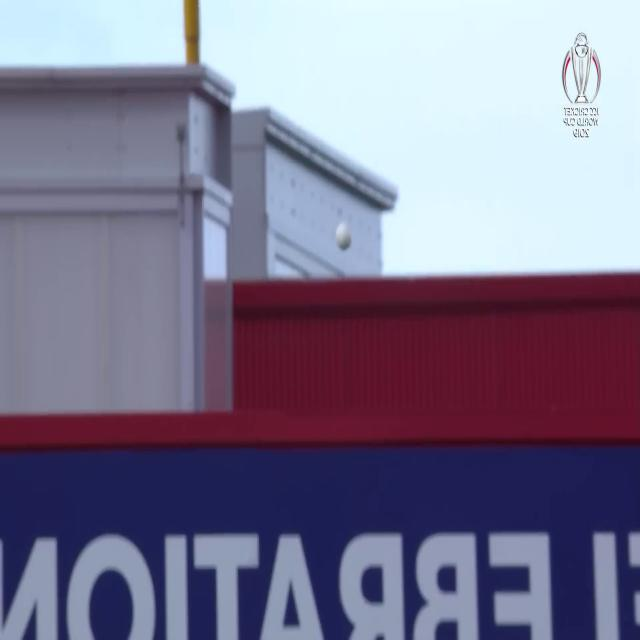ball: (334, 220, 352, 251)
